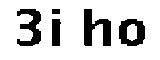3: (16, 7, 42, 48)
h: (80, 5, 115, 54)
i: (44, 4, 69, 49)
o: (115, 14, 149, 56)
